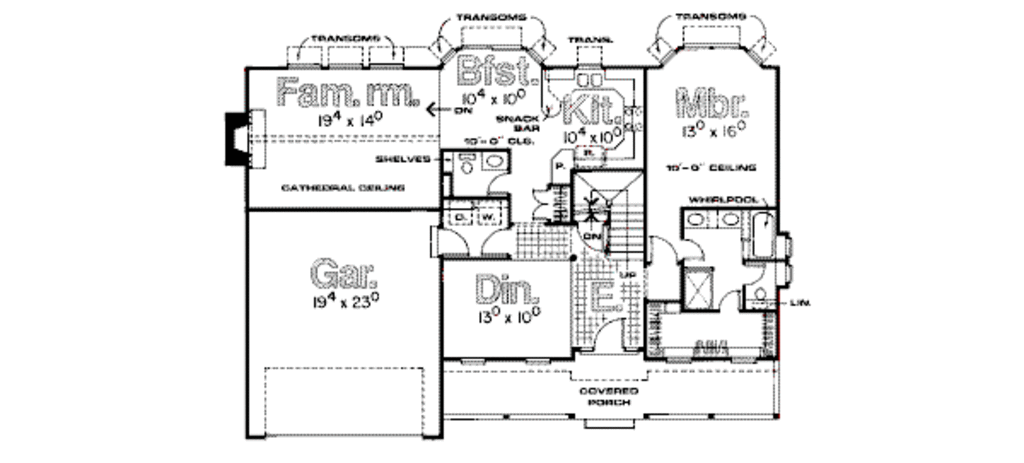door: (426, 223, 472, 258), (591, 313, 630, 347), (478, 226, 511, 261), (645, 233, 678, 267), (477, 172, 510, 199), (529, 183, 549, 225), (742, 261, 768, 288), (680, 236, 706, 261), (718, 289, 742, 313)
small_sink: (683, 207, 746, 231), (483, 147, 512, 173)
stairs: (573, 172, 647, 252)
tub: (747, 206, 778, 257)
twin_sink: (572, 68, 615, 88)
